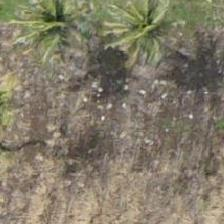coconut_tree: (104, 0, 194, 75), (10, 0, 100, 61)
